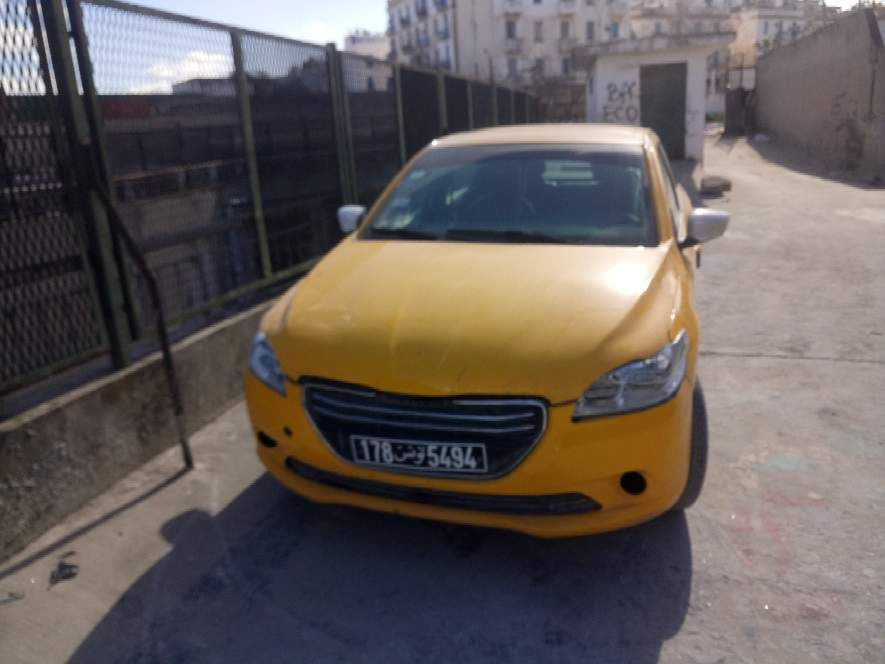LP: (351, 434, 486, 473)
